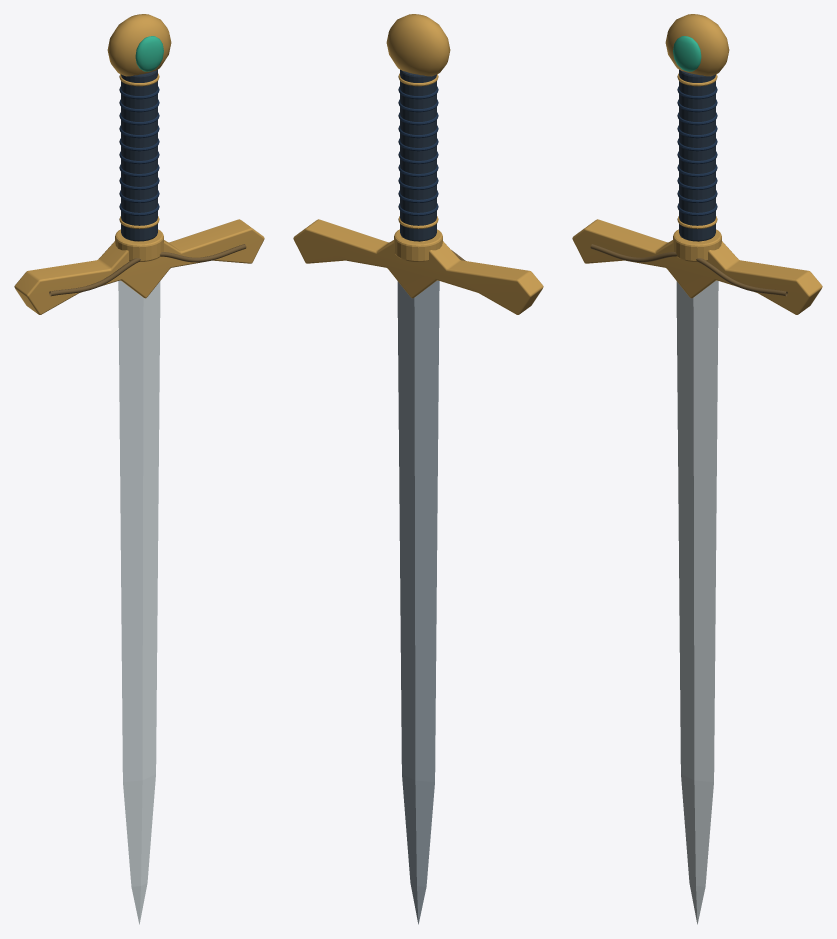
Rendered from EDH_Sariwa_Sword.glb.
The picture shows the model from 3 angles, left to right: view 1: azimuth 30°, elevation 25°; view 2: azimuth 150°, elevation 25°; view 3: azimuth 330°, elevation 25°; orthographic projection.
Visible parts, largest first — view 1: Sariwa | diamond blade, Sariwa | crossguard, Sariwa | leather grip, Sariwa | pommel, Sariwa | naga guard engraving, Sariwa | grip collar, Sariwa | pommel jade; view 2: Sariwa | diamond blade, Sariwa | crossguard, Sariwa | leather grip, Sariwa | pommel, Sariwa | grip collar; view 3: Sariwa | diamond blade, Sariwa | crossguard, Sariwa | leather grip, Sariwa | pommel, Sariwa | naga guard engraving, Sariwa | grip collar, Sariwa | pommel jade.
Boxes of the visible parts, x1,y1,x2,y2 form: Sariwa | diamond blade: (118,280,160,924); Sariwa | crossguard: (14,219,264,314); Sariwa | leather grip: (121,69,157,241); Sariwa | pommel: (107,14,171,76); Sariwa | naga guard engraving: (49,244,246,296); Sariwa | grip collar: (115,229,163,261); Sariwa | pommel jade: (135,36,163,71); Sariwa | diamond blade: (397,280,439,924); Sariwa | crossguard: (293,219,543,314); Sariwa | leather grip: (400,69,436,241); Sariwa | pommel: (386,14,450,76); Sariwa | grip collar: (394,229,442,261); Sariwa | diamond blade: (676,280,718,924); Sariwa | crossguard: (572,219,822,314); Sariwa | leather grip: (679,69,715,241); Sariwa | pommel: (665,14,729,76); Sariwa | naga guard engraving: (590,244,787,296); Sariwa | grip collar: (673,229,721,261); Sariwa | pommel jade: (673,36,701,71).
Bounding box in the file's own units: 0.2686 × 0.981 × 0.05.
